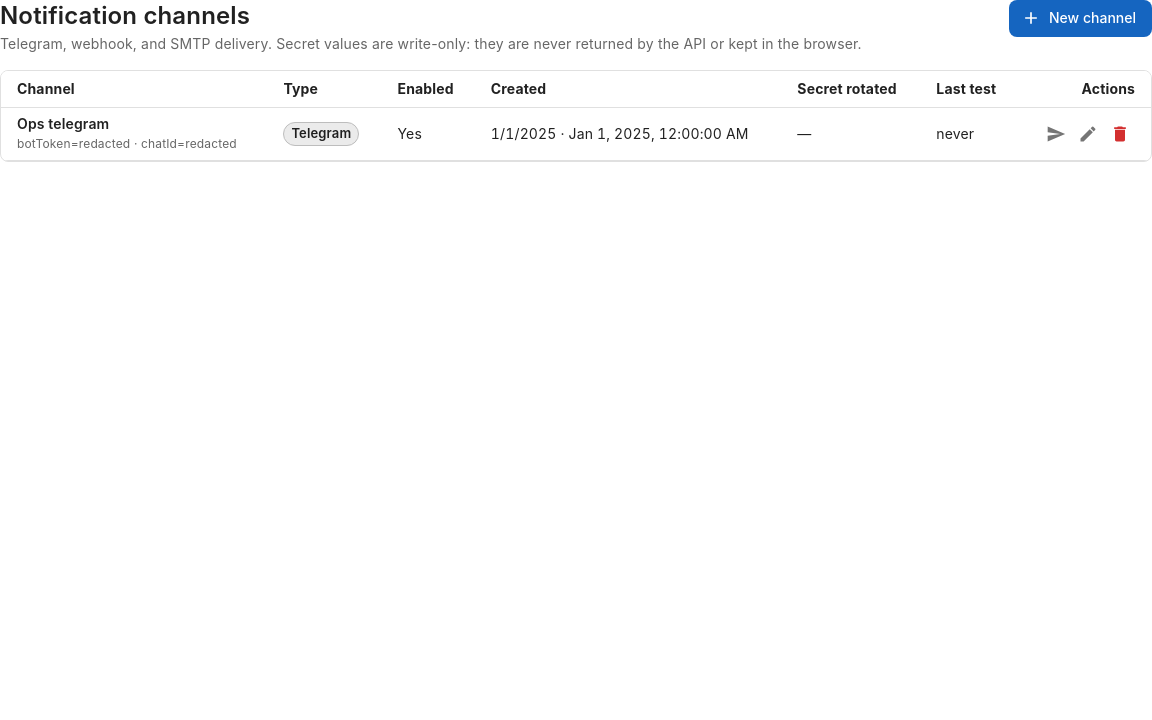
Test: NotificationsPage › shows a warning when a test fails, without echoing secret details
The width and height of the screenshot is (1152, 720).
Click the button named "Test channel Ops telegram" at (1056, 134), box x1=1041 y1=119 x2=1071 y2=149
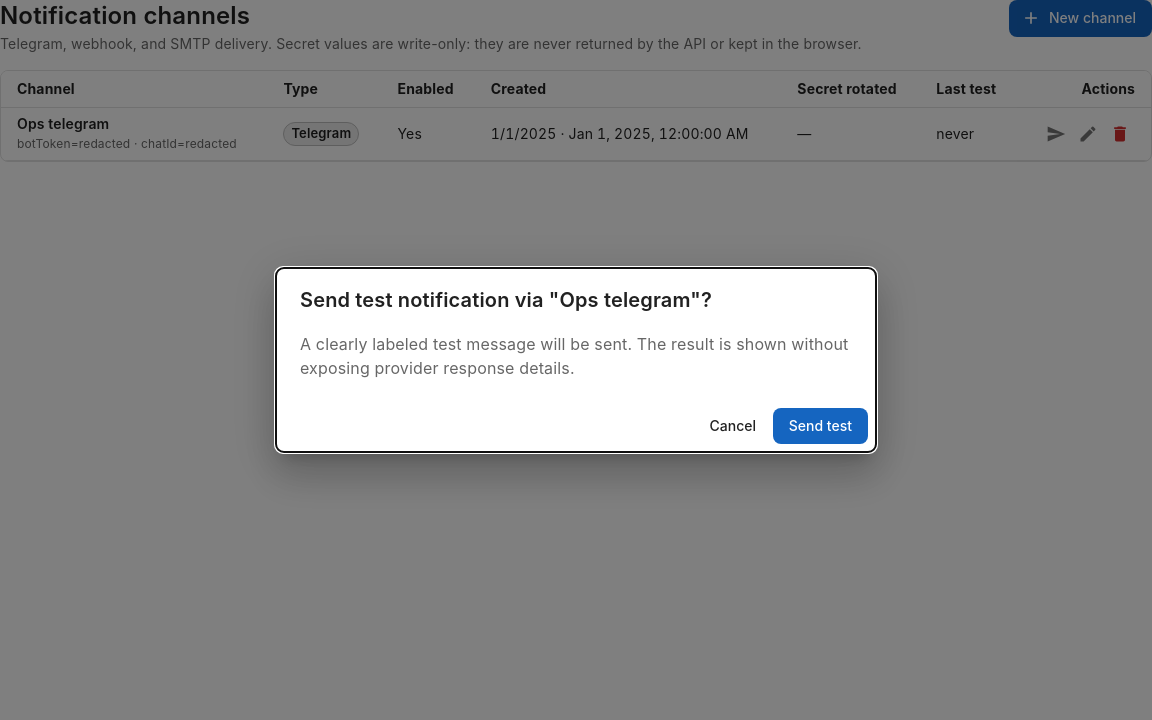
Click the button "Send test" at (820, 426), box x1=773 y1=408 x2=868 y2=444
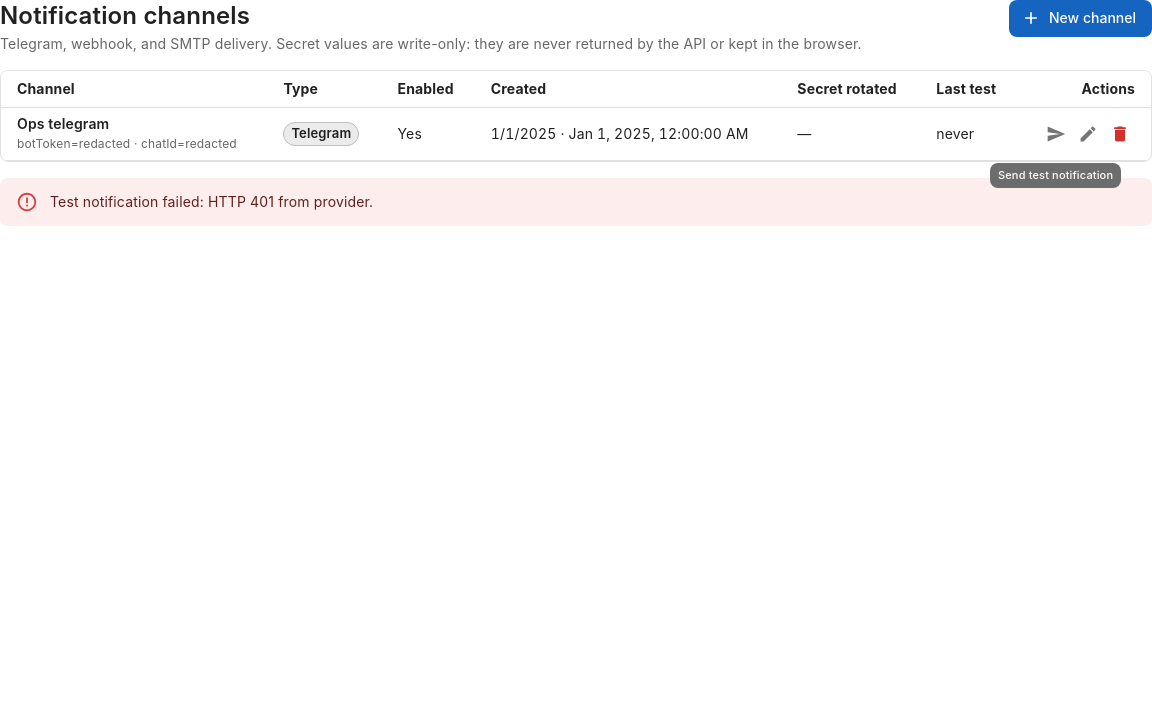
Expected: the text "Test notification failed: HTTP 401 from provider." is shown, x1=50 y1=193 x2=373 y2=210
